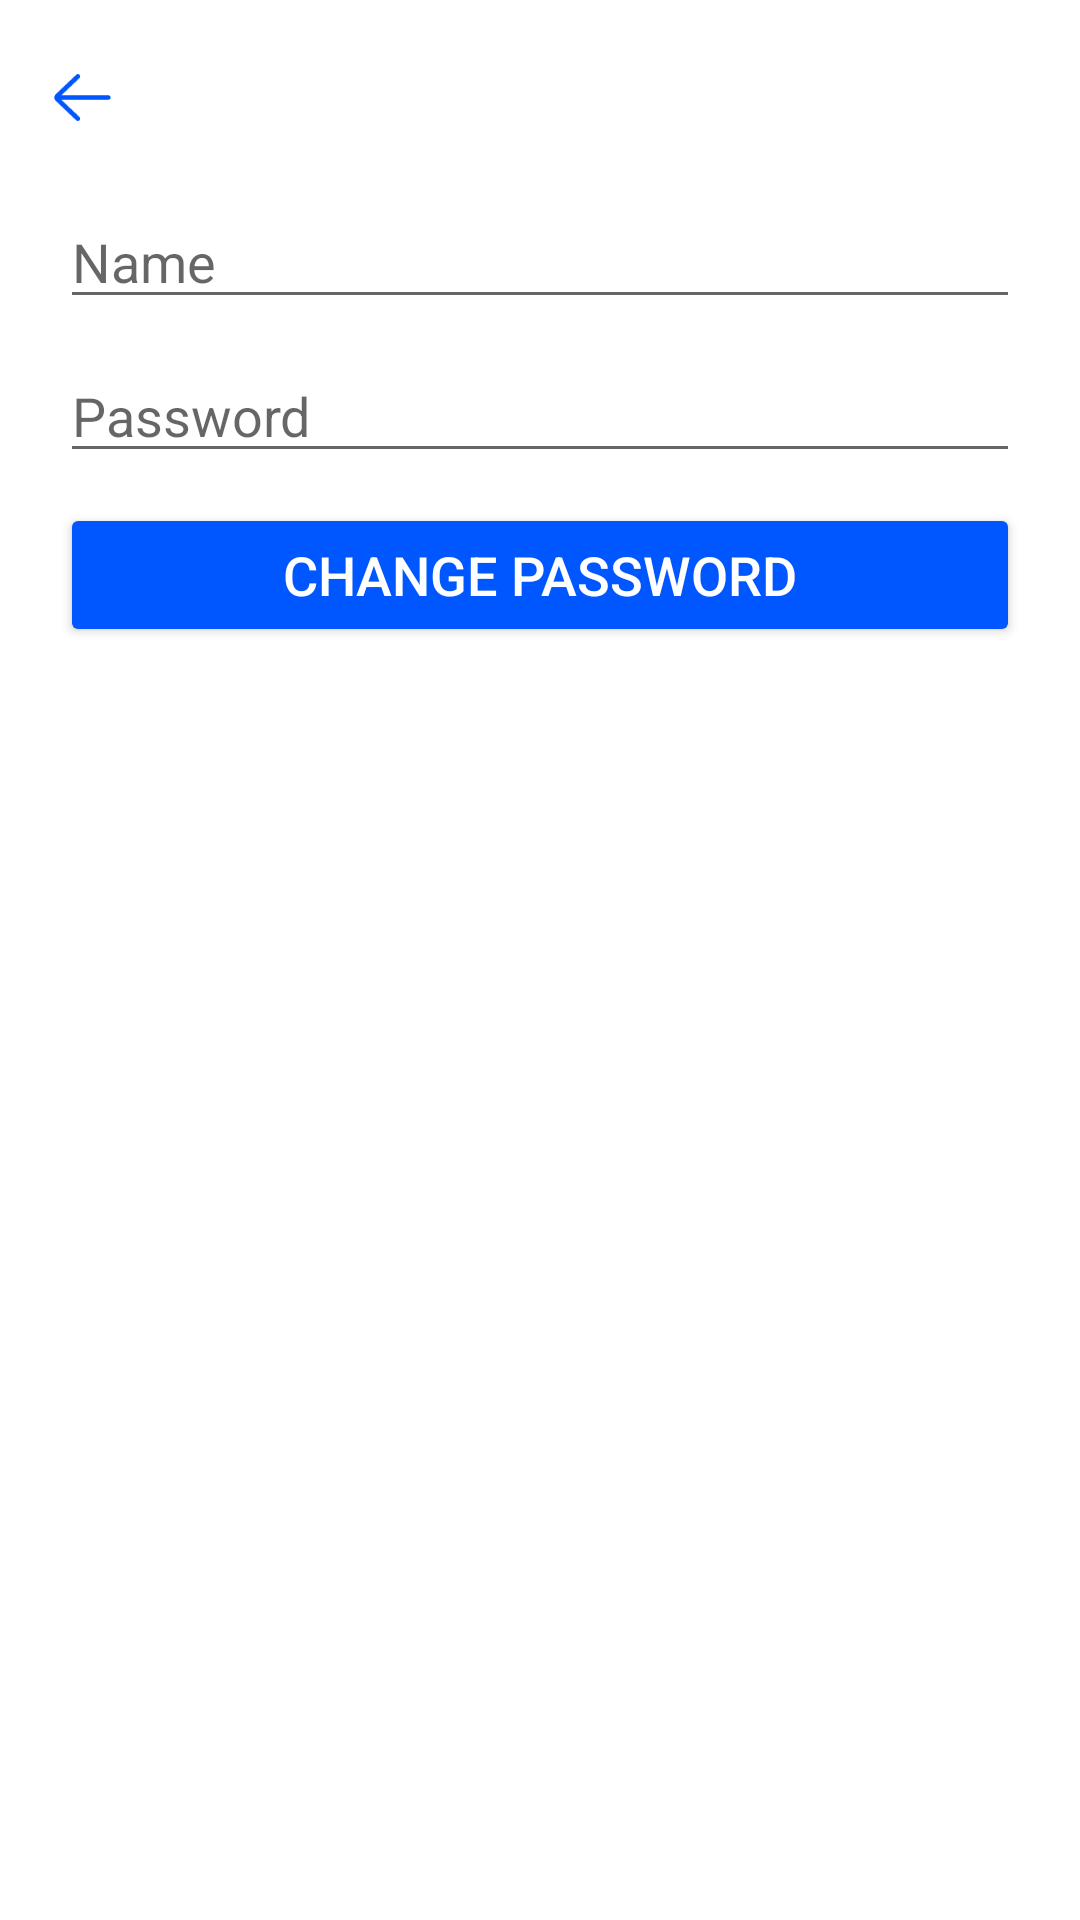

Screen size 1080×1920. Icon name, then its center in pixels as [x,y]:
back: [82,97]
